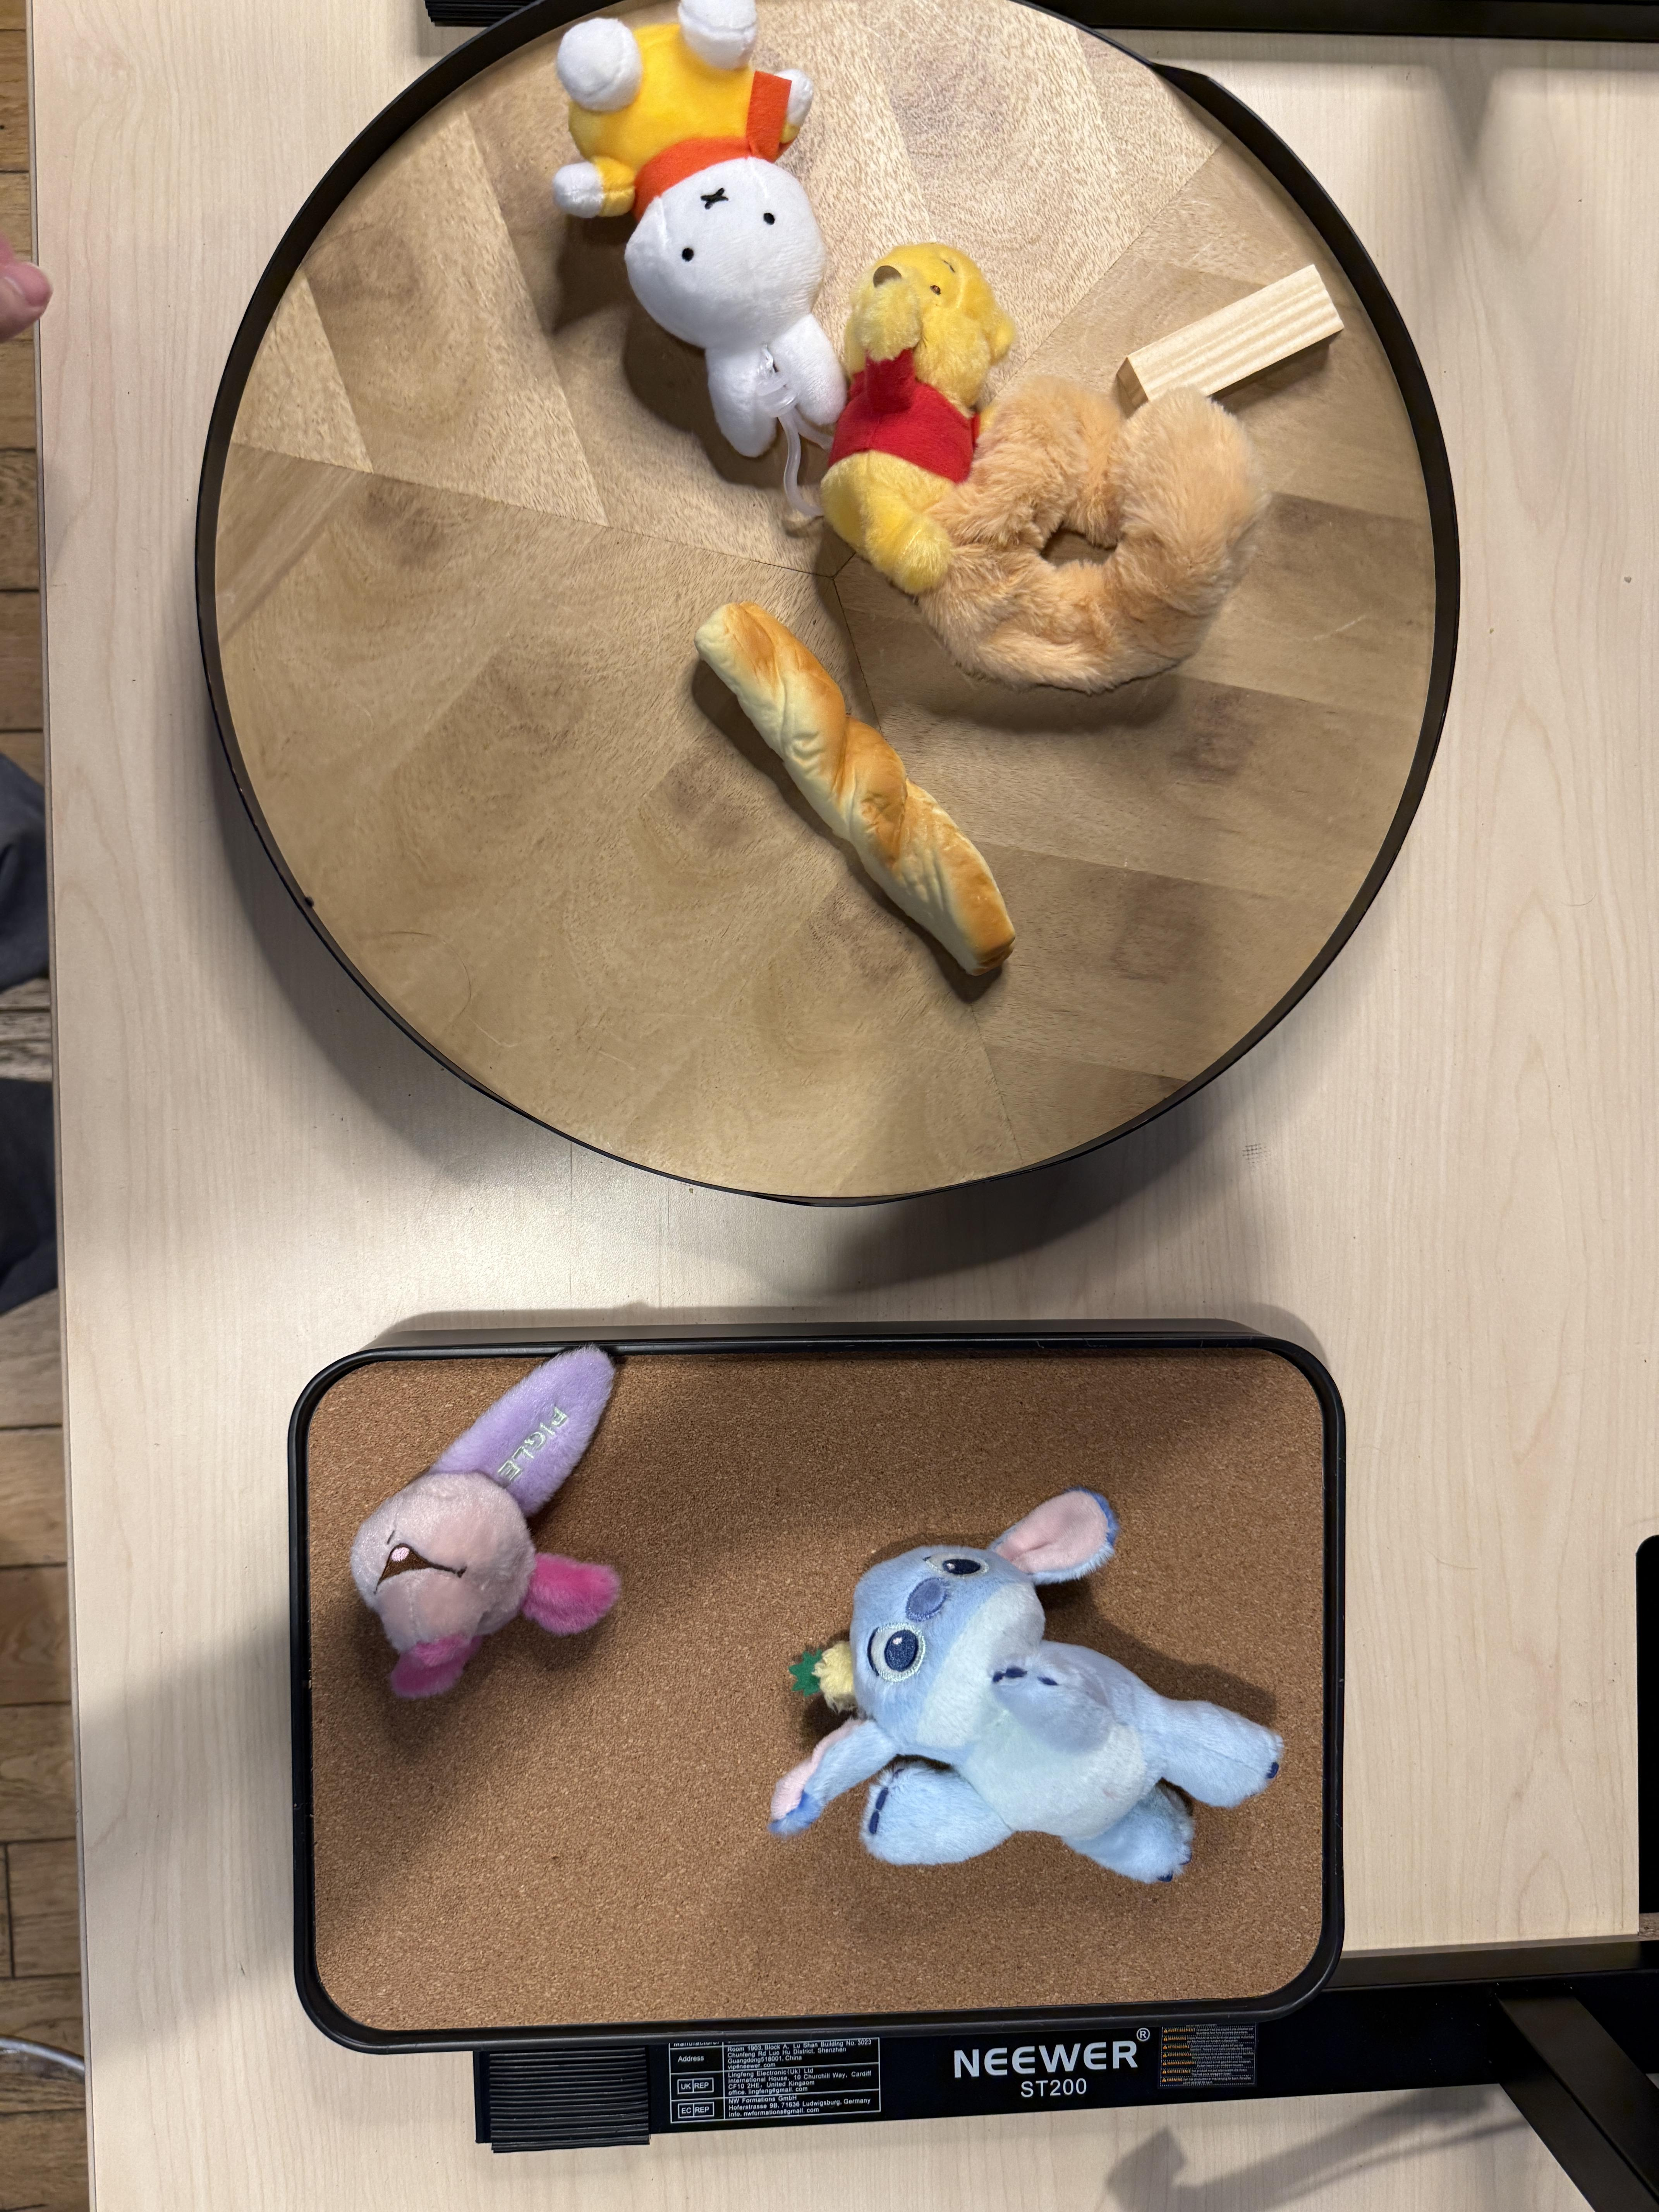block: (1134, 260, 1344, 416)
bread: (694, 601, 1018, 984)
doll: (805, 237, 1267, 697), (774, 1487, 1286, 1895), (554, 0, 842, 455), (345, 1348, 629, 1696)
